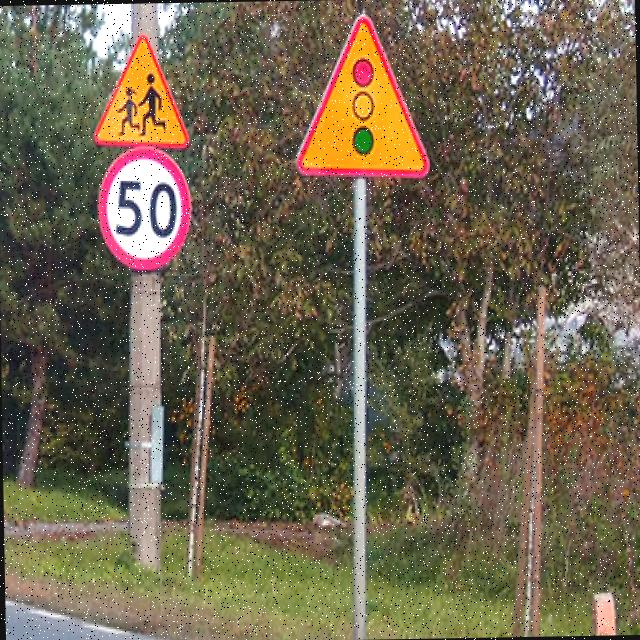Dzieci: (94, 28, 191, 153)
